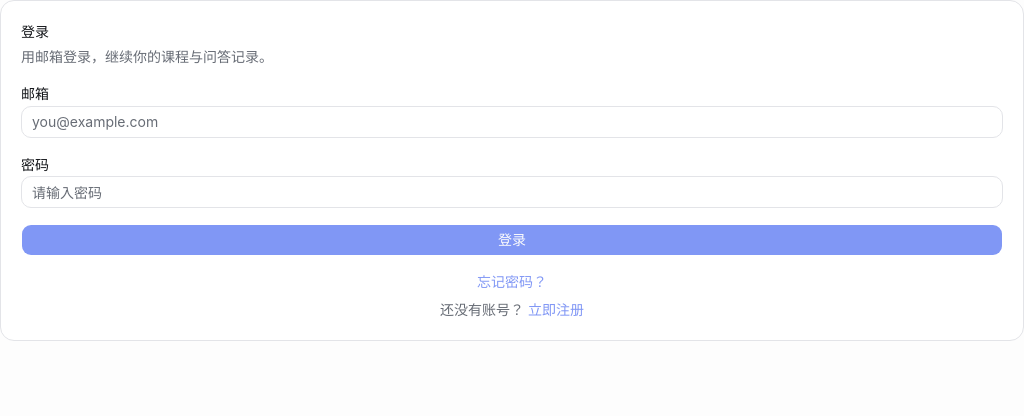
it: LoginPage · 登录 › 密码错误：表单顶部就地提示，不写会话也不跳转
Type "demo@example.com" into the field labelled "邮箱". click: point(512, 122)
box: [21,106,1003,138]
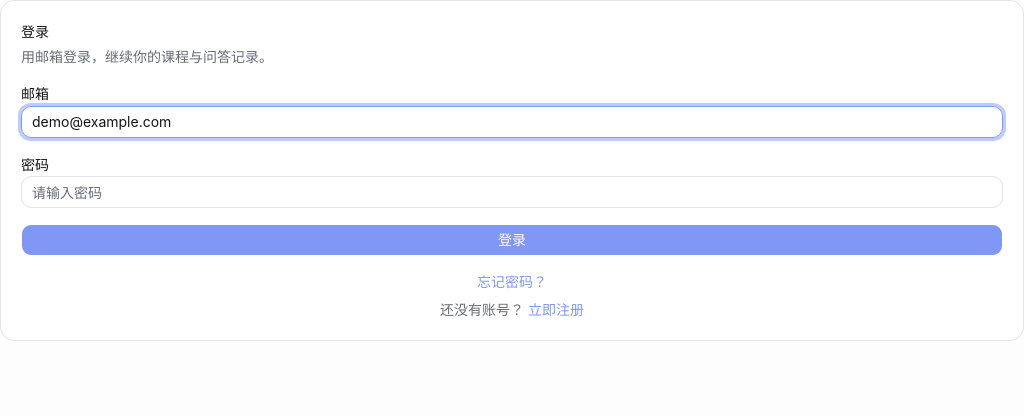
Type "Wrong@1234" into the password field labelled "密码". click: point(512, 192)
box: [21,176,1003,208]
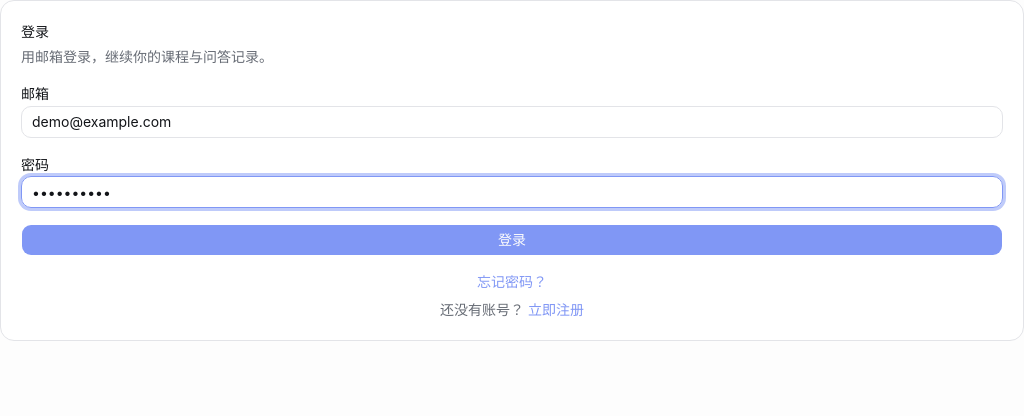
Click the button "登录". click: point(512, 240)
box: [21,224,1003,256]
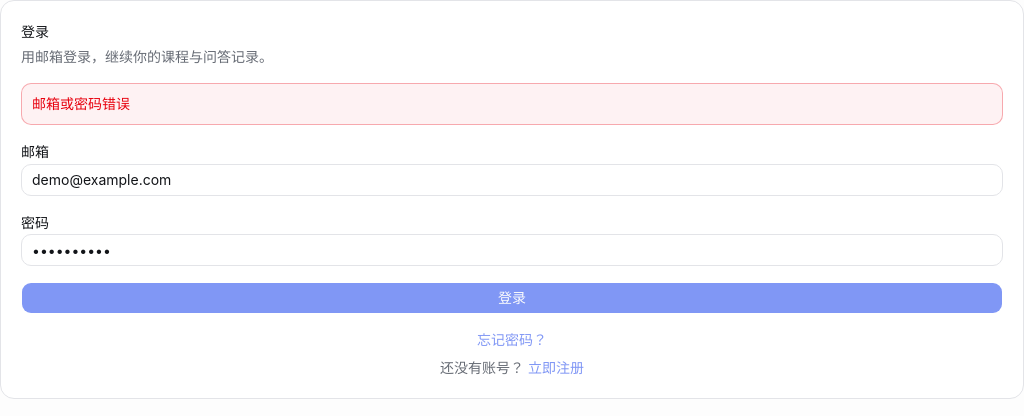
Check: the heading "登录" is shown, box [21,23,49,40]
Check: the message reads "邮箱或密码错误", box [32,95,130,112]
